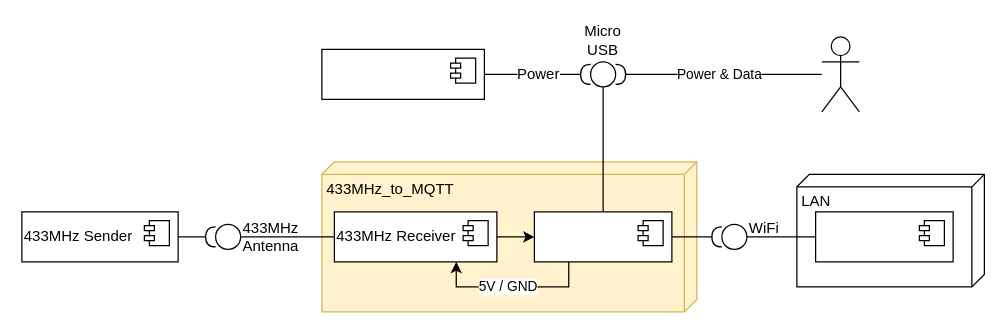
Image size: 1006x334. Some labels were removed from this diagram. Here are the shapes that lost their labels. From the top down, the box of each, then its label:
(321, 48, 484, 99): 5V Power Supply
(821, 36, 859, 112): Admin
(533, 211, 672, 262): RPi Pico W
(814, 211, 953, 262): MQTT Broker
